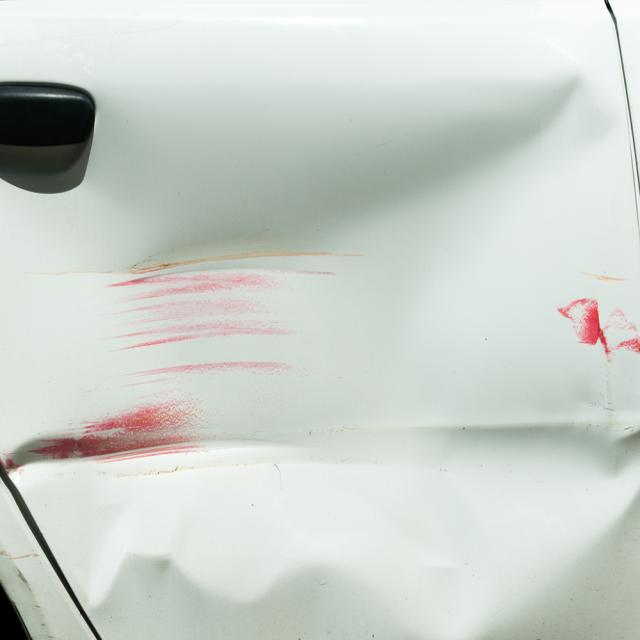Cabossage: (106, 53, 636, 409), (0, 408, 640, 636)
Rayure: (89, 241, 370, 383), (0, 386, 206, 497), (550, 254, 640, 389)
